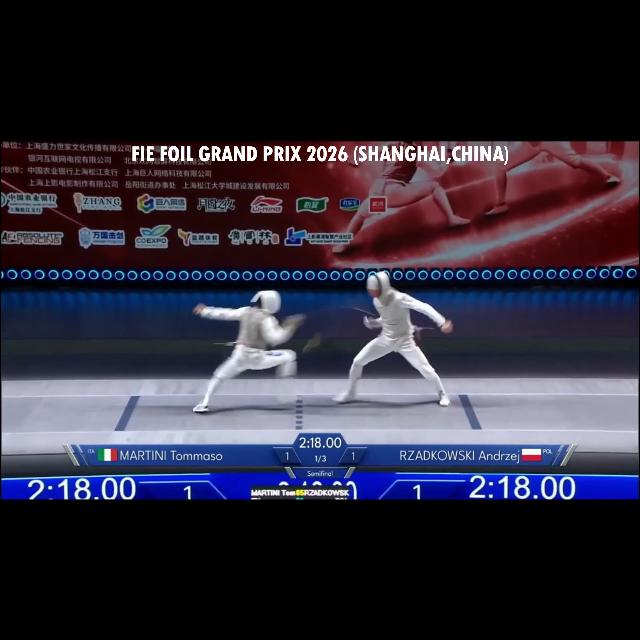blade: (299, 314, 371, 356), (290, 301, 378, 323)
